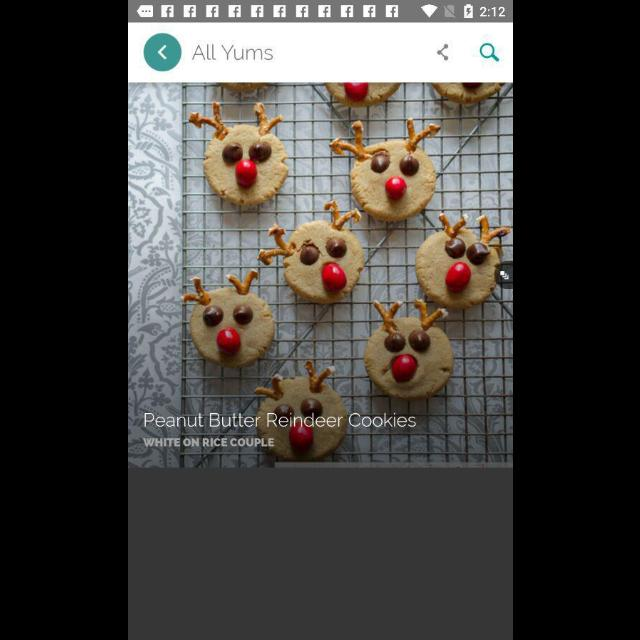icon: (144, 34, 182, 72), (478, 42, 498, 62), (436, 44, 448, 60)
image: (128, 84, 512, 468)
text: (144, 412, 416, 428), (191, 44, 273, 61), (142, 438, 274, 447)
toolbar: (128, 22, 512, 82)
uppertaskbar: (128, 1, 512, 23)
